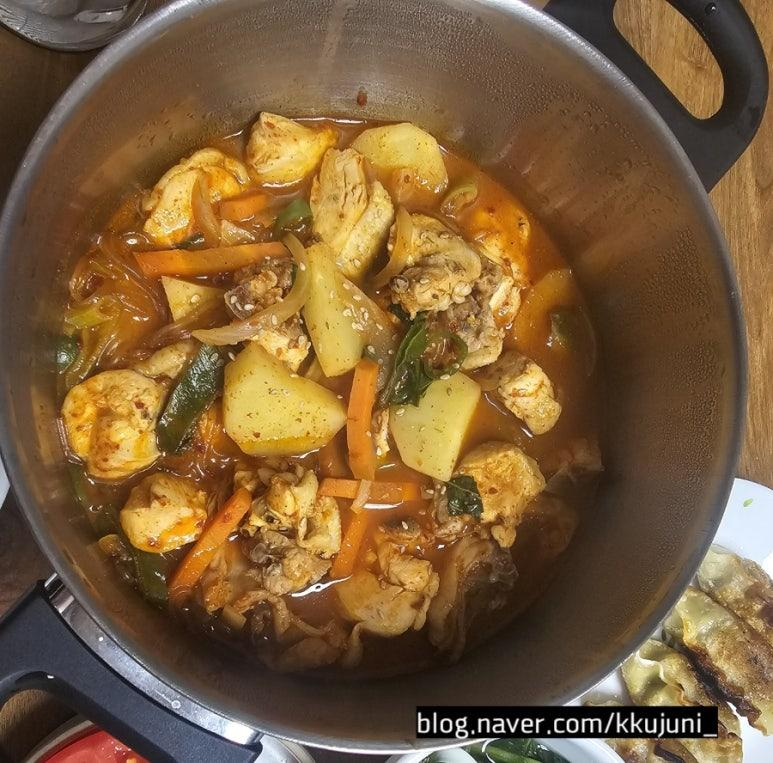Lunch Box: (0, 0, 767, 762)
